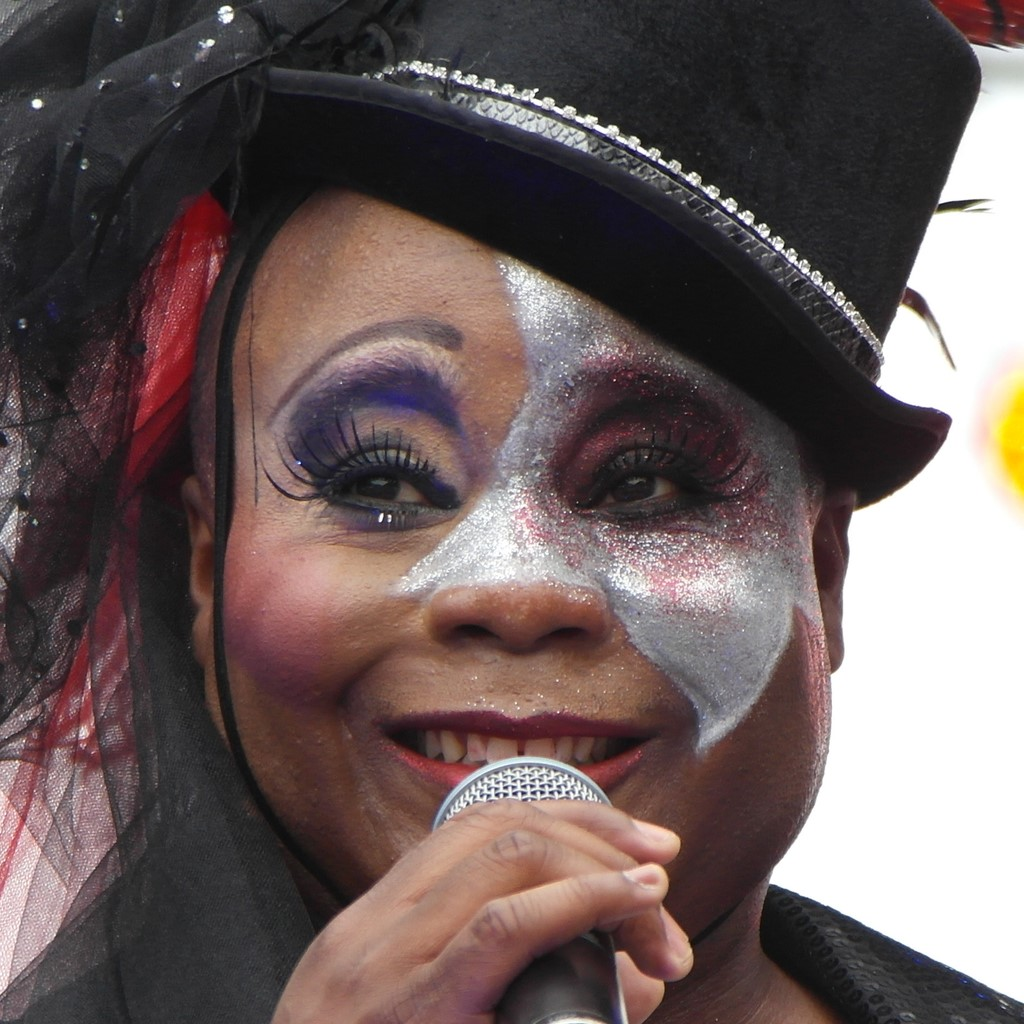sin_mascara: (181, 97, 830, 962)
